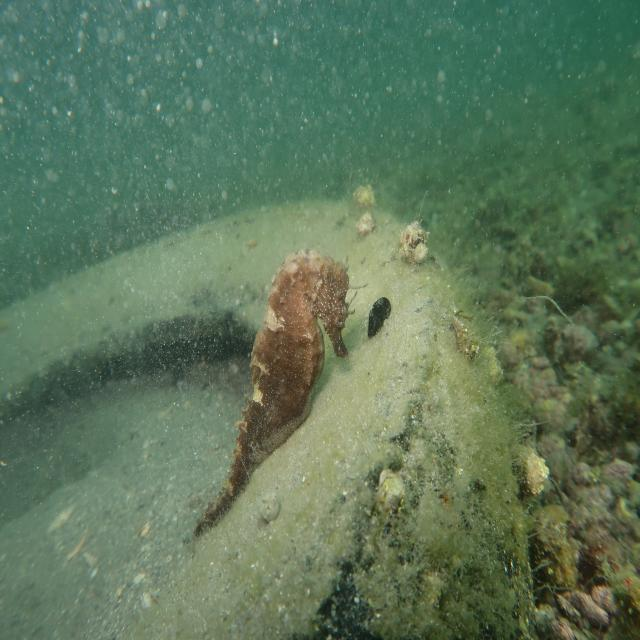Hippo: (317, 251, 357, 369)
